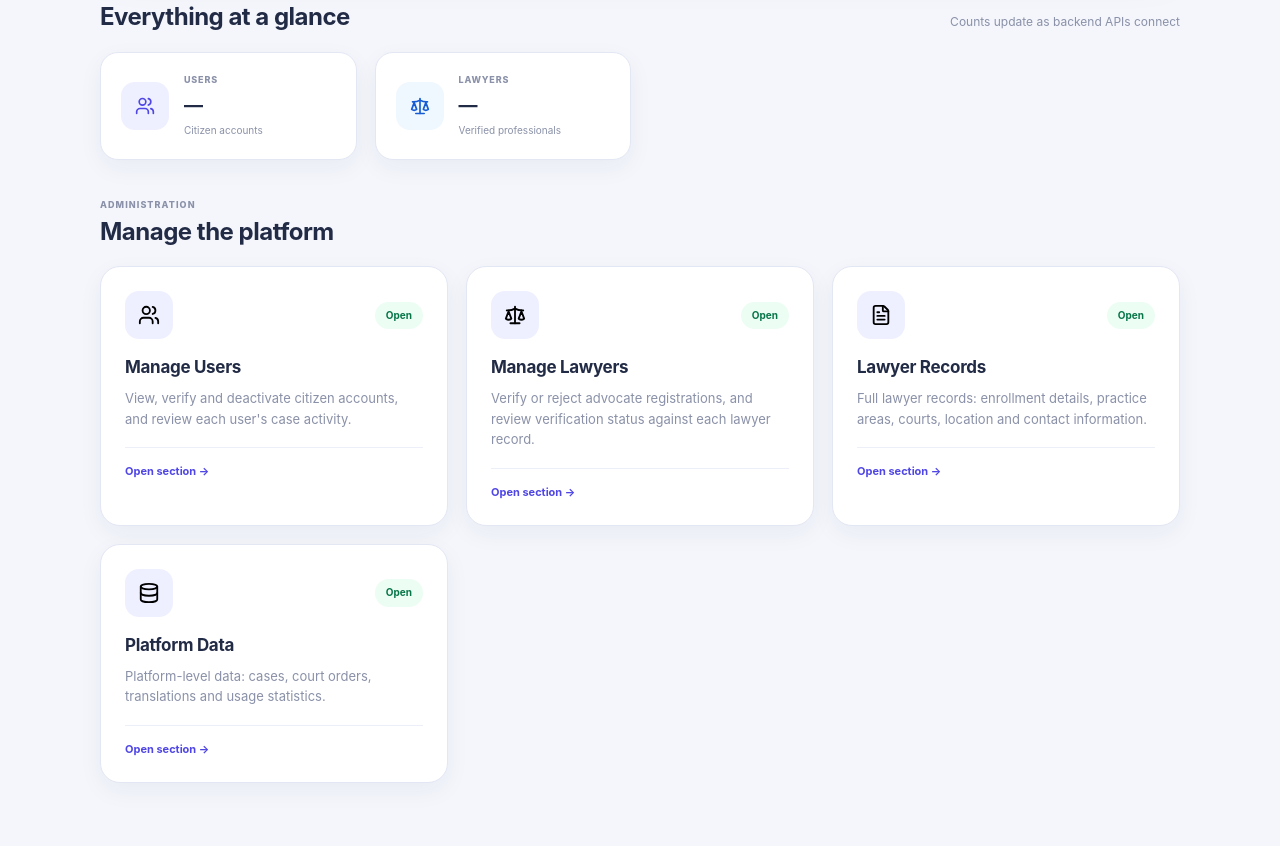
ruling on a registration › PATCHes the server and repaints from its answer
(page scrolled)
Step 1. Click the button "Manage Lawyers" → x=640, y=396, box x1=466 y1=266 x2=814 y2=526
(page scrolled)
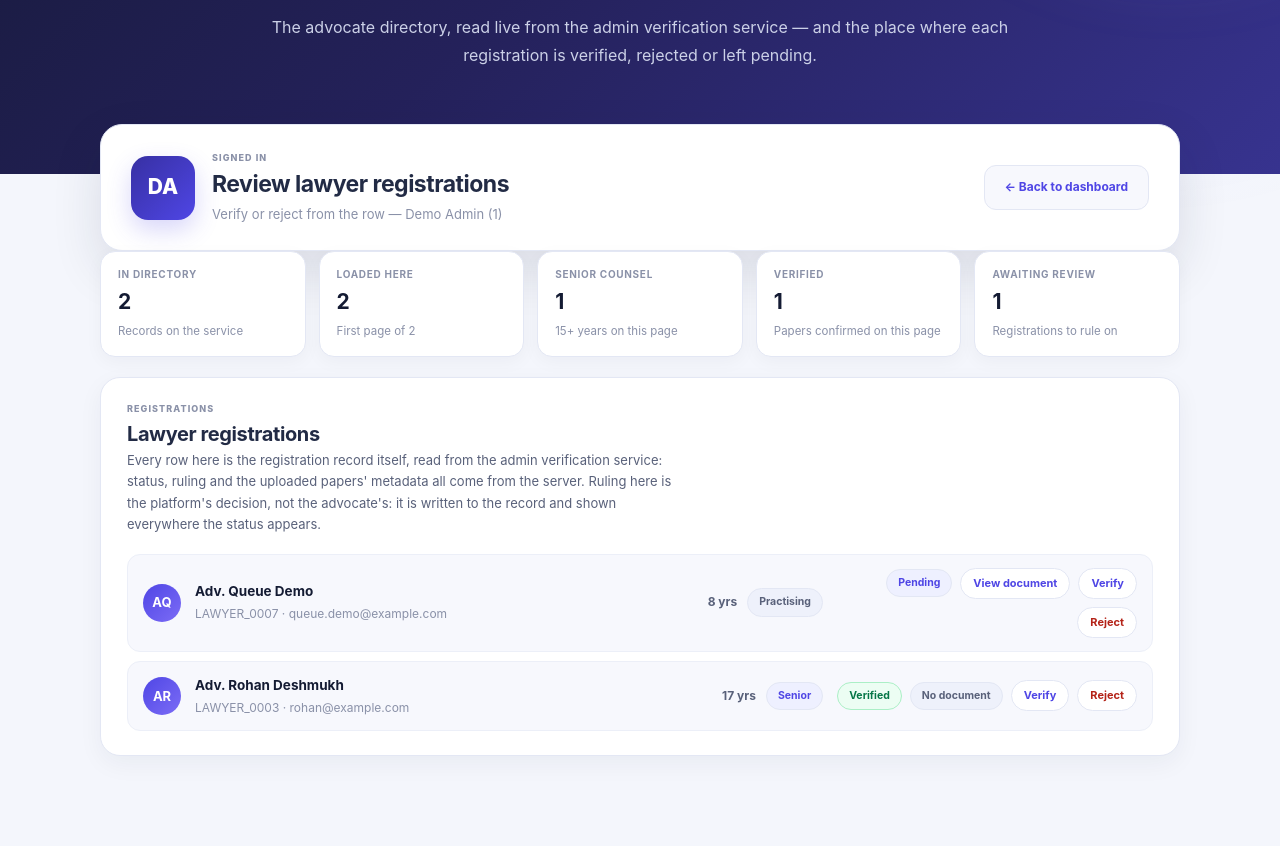
Result: the text "Adv. Queue Demo" is shown at x1=195 y1=583 x2=313 y2=599
Step 2. Click the 1st button "Verify" → x=1108, y=583, box x1=1078 y1=568 x2=1137 y2=598
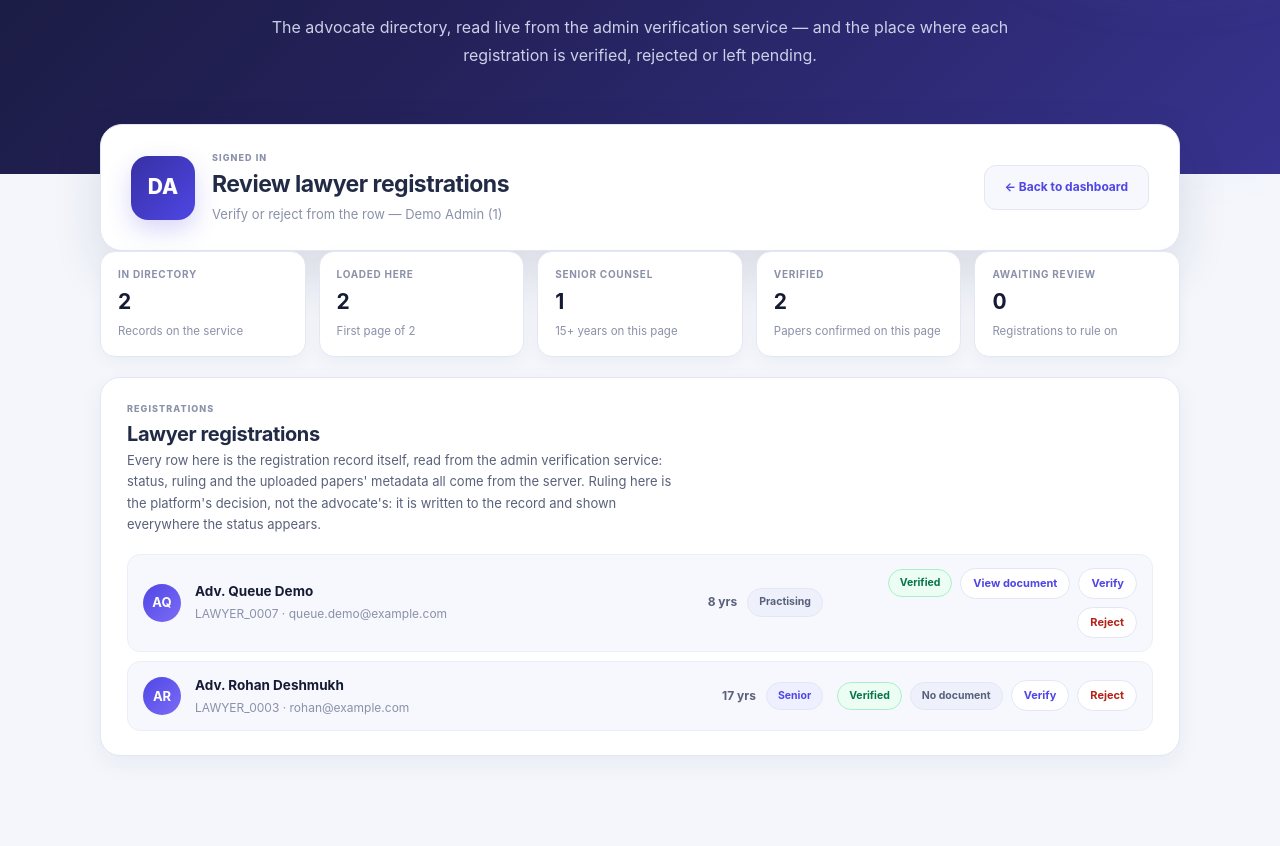
Result: the 1st text "Verified" is shown at x1=888 y1=569 x2=952 y2=597
